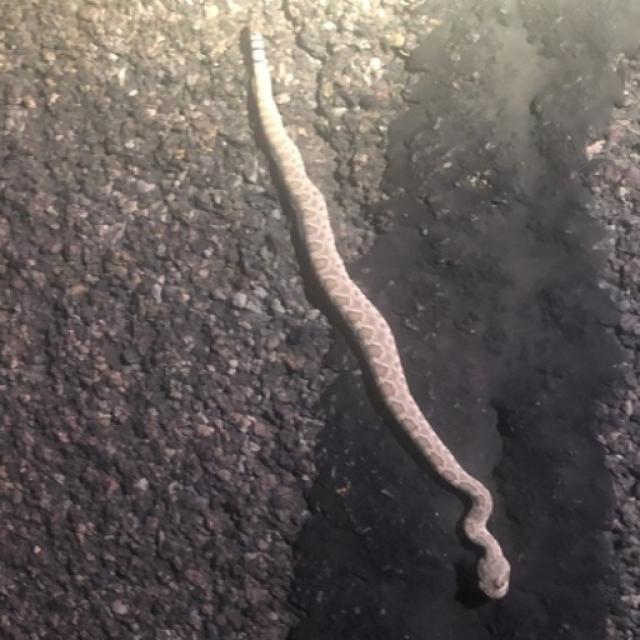snake: (225, 5, 540, 607)
